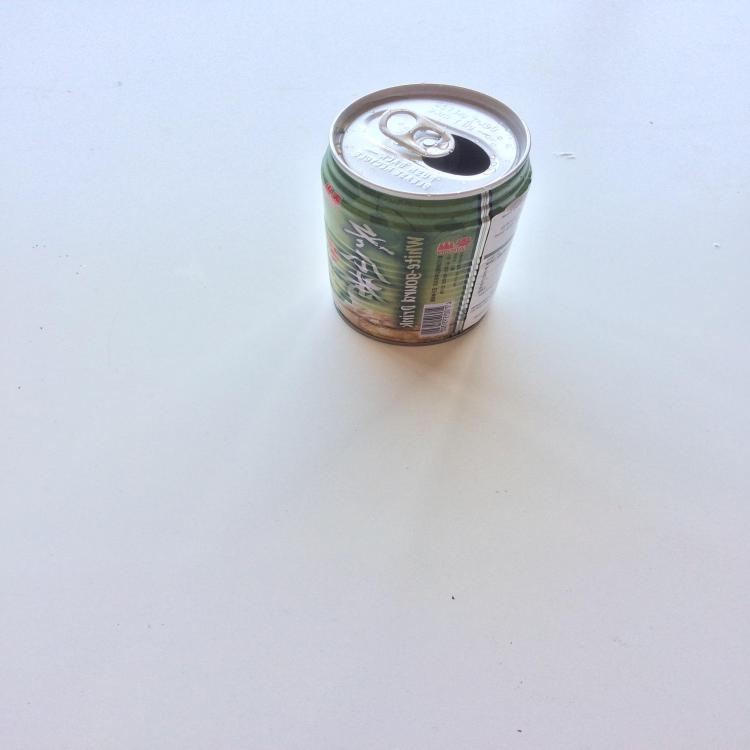Drink can: (320, 83, 532, 347)
Pop tab: (379, 108, 454, 158)
